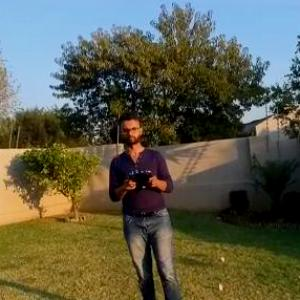follow: (104, 107, 186, 299)
